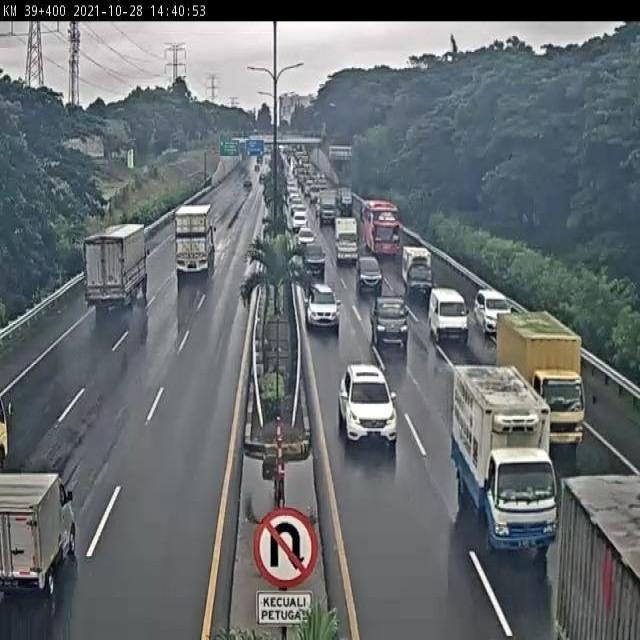big truck: (171, 206, 215, 282)
car: (337, 362, 400, 449), (428, 285, 471, 344), (370, 296, 410, 345), (473, 287, 513, 332), (307, 281, 341, 331), (355, 256, 384, 292)
small truck: (0, 465, 79, 595)
truck-m-: (454, 361, 562, 555), (496, 311, 586, 452), (85, 223, 148, 312)
truck-s-: (401, 243, 434, 296)
